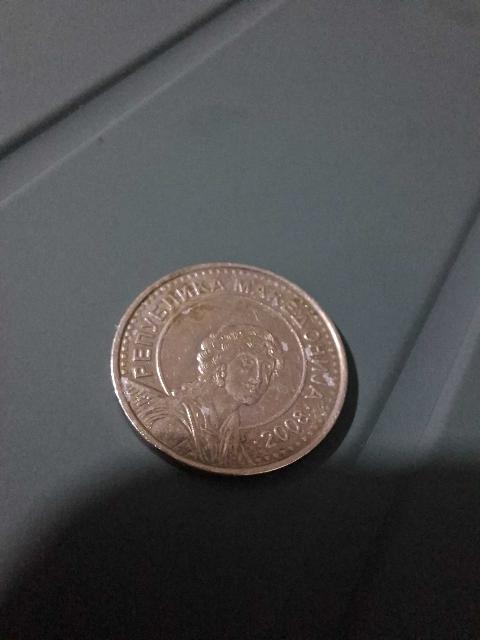50_coin: (116, 257, 339, 480)
